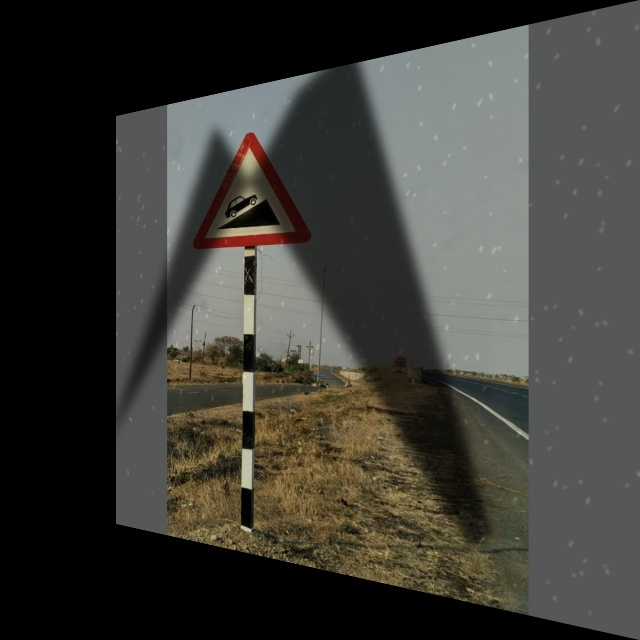Steep_Ascent: (190, 121, 312, 257)
